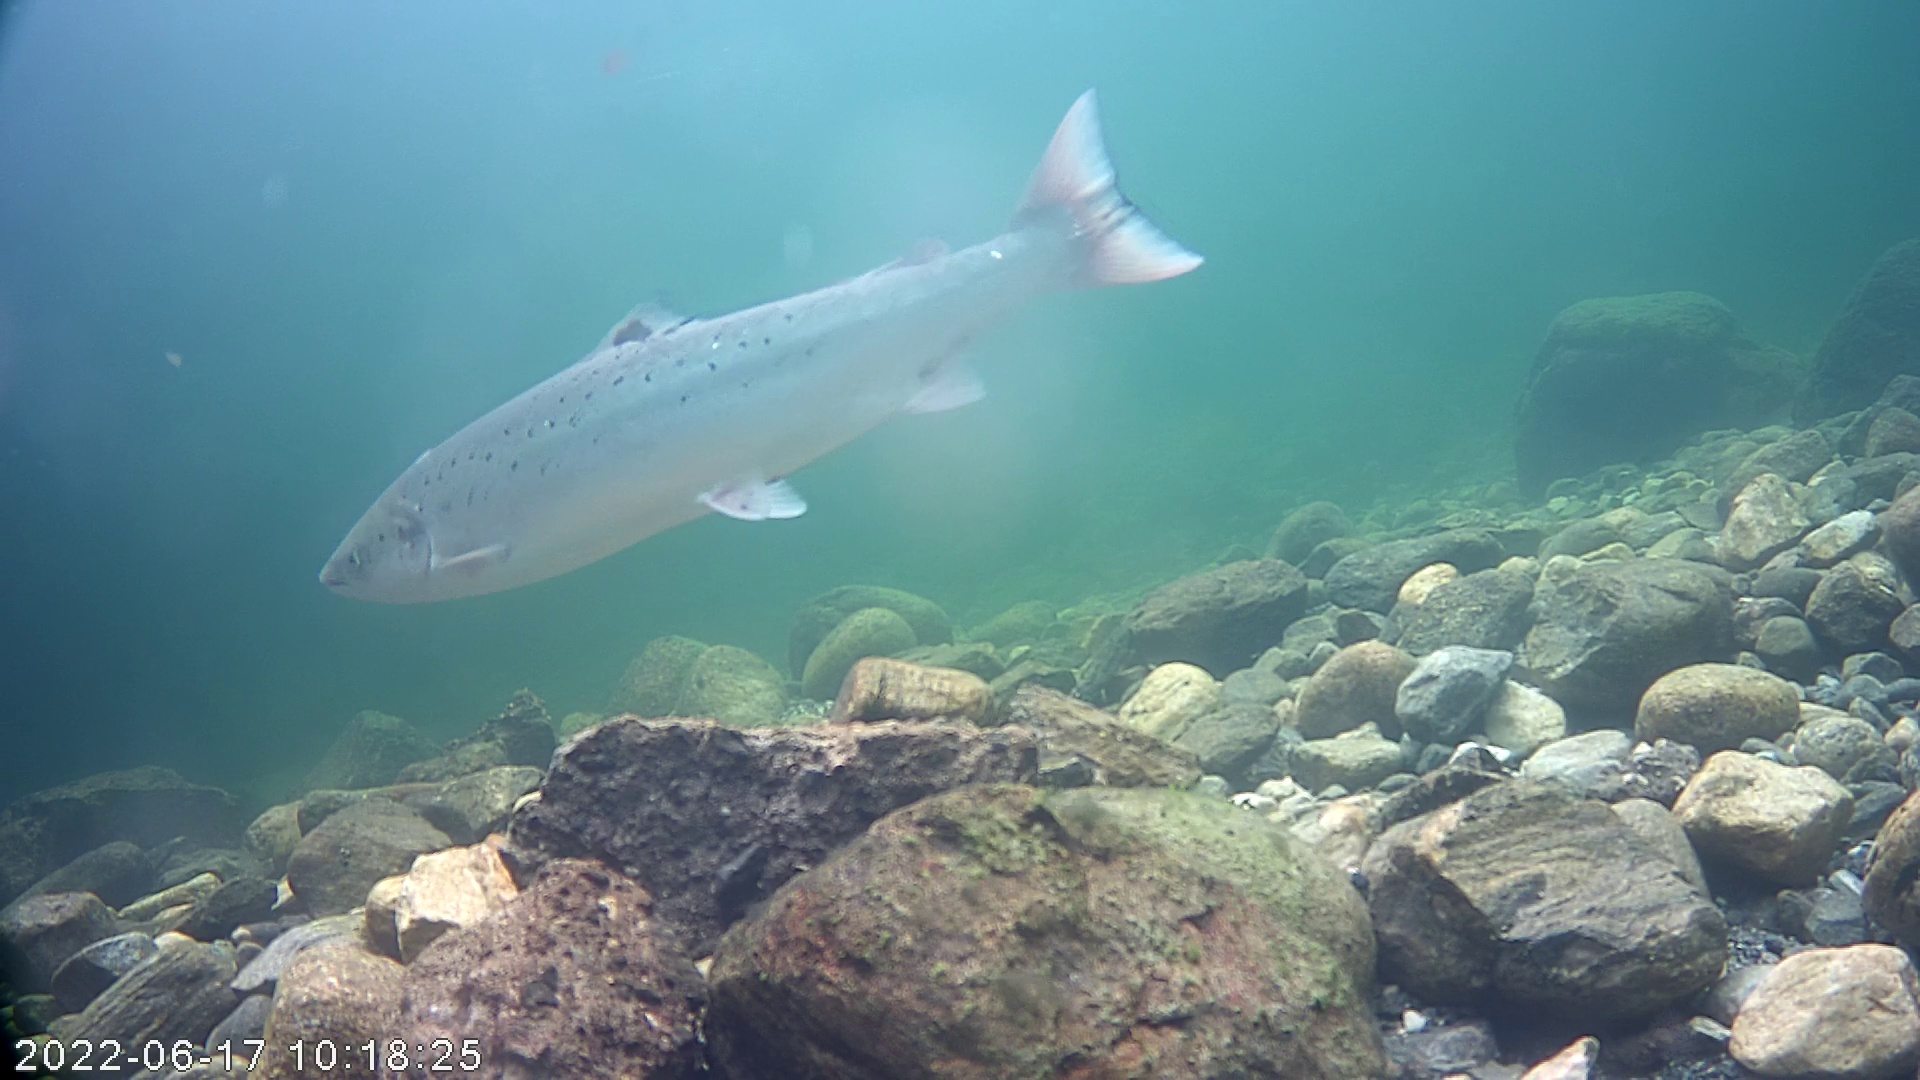salmon: (316, 87, 1205, 611)
